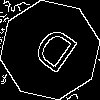D: (25, 25, 80, 83)
